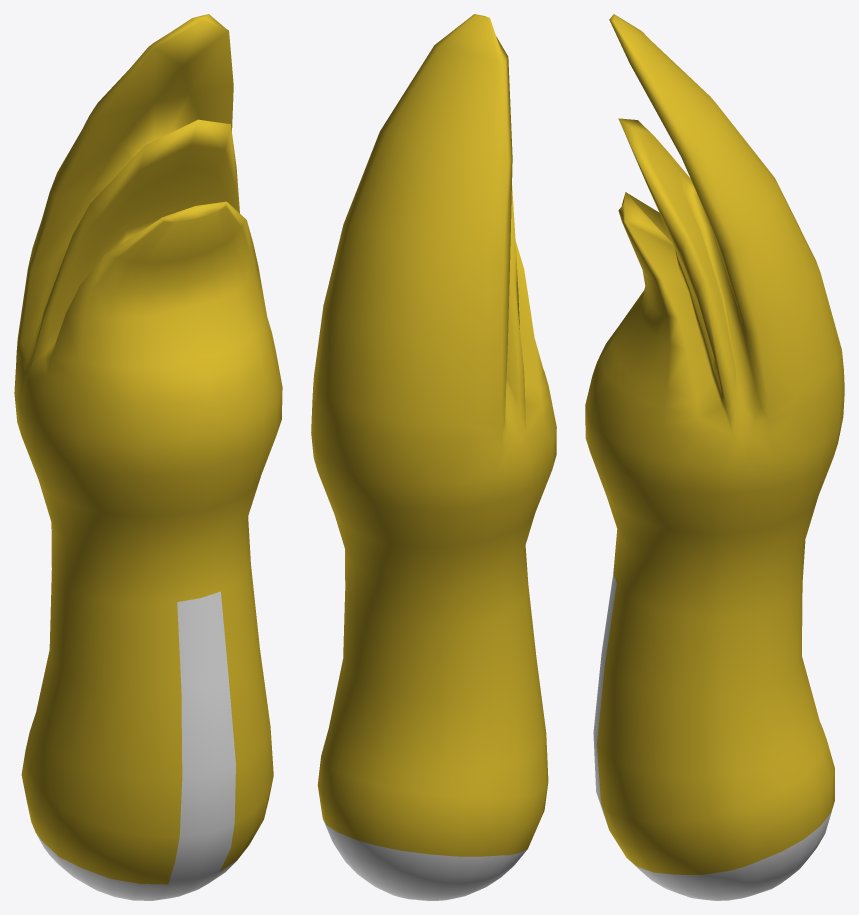
File: toy1_LP.fbx
3 views of the same model, side by side, from view 1: azimuth 30°, elevation 25°; view 2: azimuth 150°, elevation 25°; view 3: azimuth 270°, elevation 25° (orthographic). The views are drawn at different scales.
Visible parts, largest first — view 1: 552496 v0 low; view 2: 552496 v0 low; view 3: 552496 v0 low.
Part boxes in pixels (box(x1,y1,x2,y2)): 552496 v0 low: box(14, 14, 282, 900); 552496 v0 low: box(311, 14, 556, 900); 552496 v0 low: box(585, 14, 844, 900).
Size of the model in its own units: 15.9 by 59.87 by 16.17.
